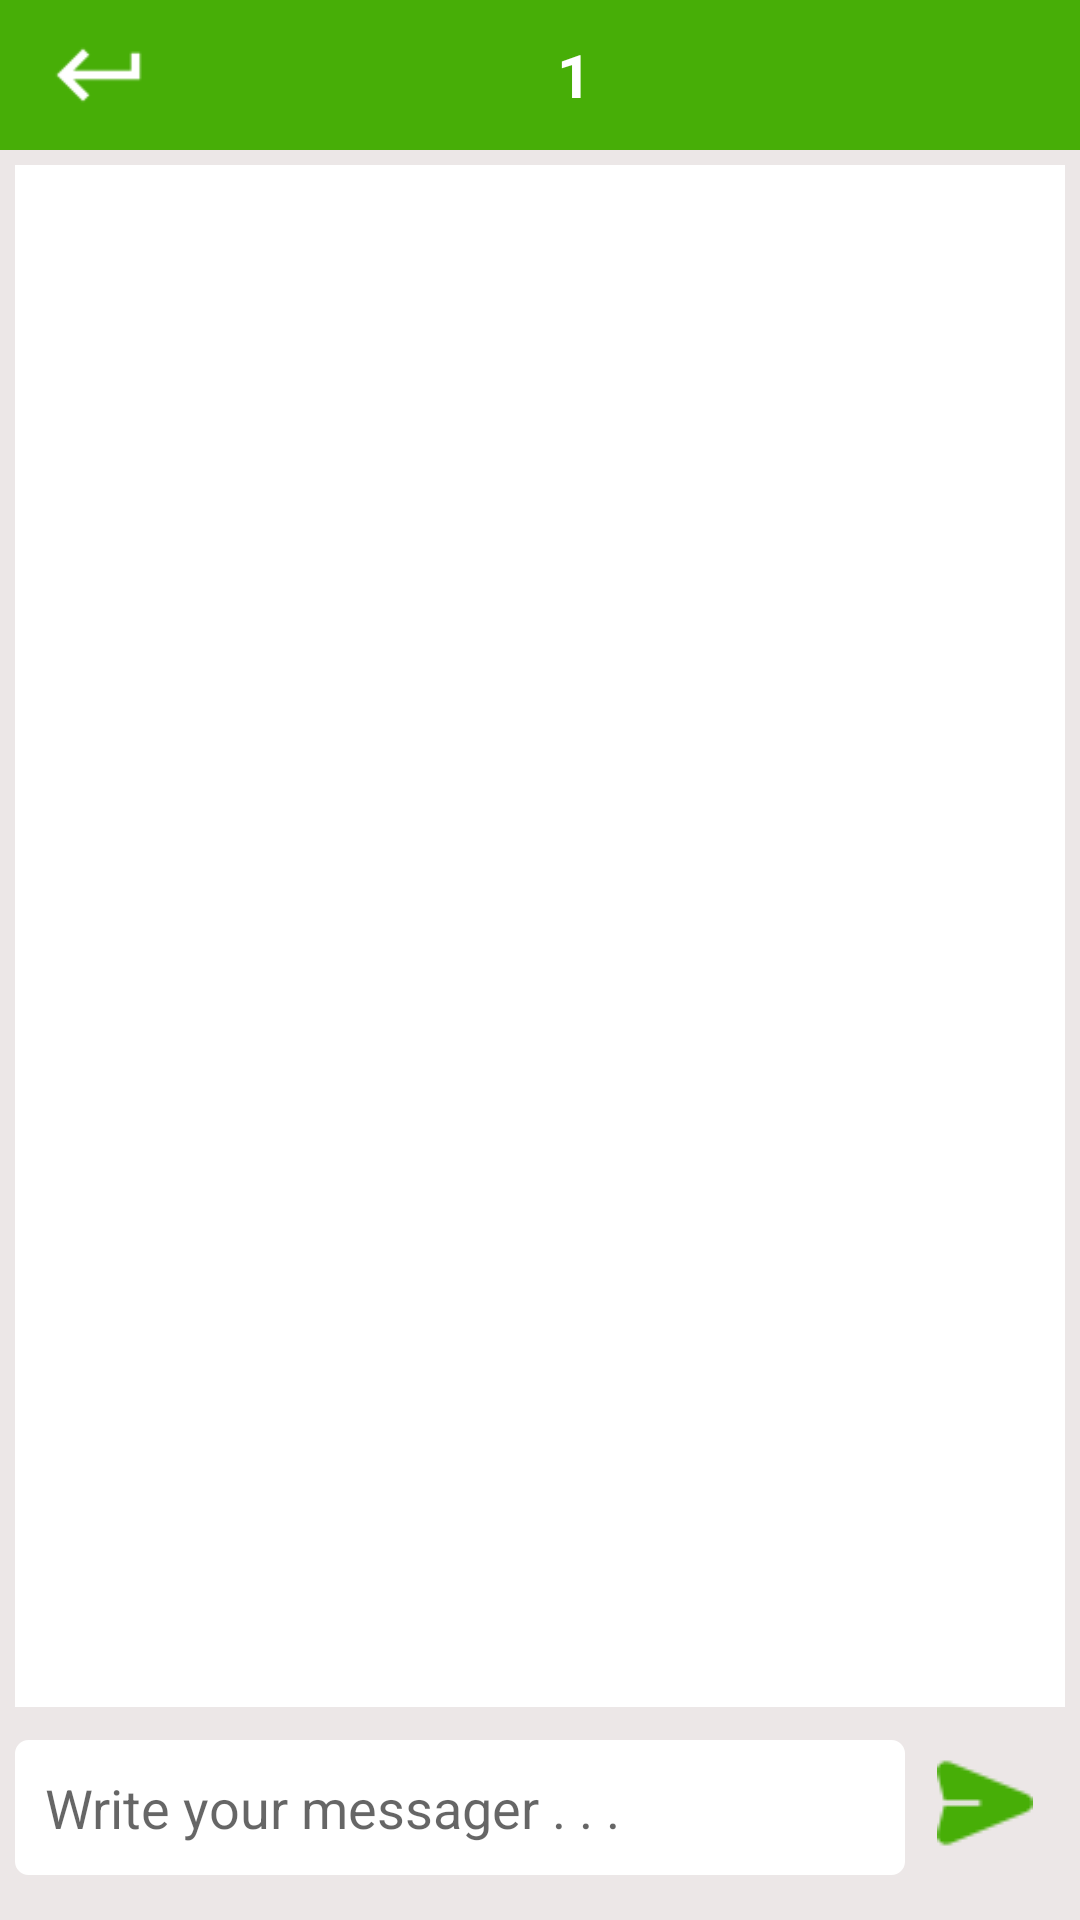

Icons on this 1080*1920 Android screen, each with the point to tap as point (x, y):
keyboard return: point (99, 75)
send: point (985, 1803)
